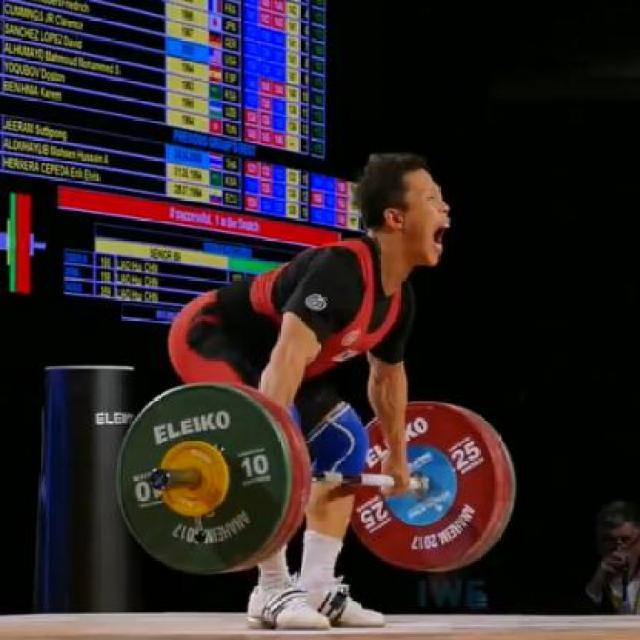Barbell: (146, 464, 177, 496)
